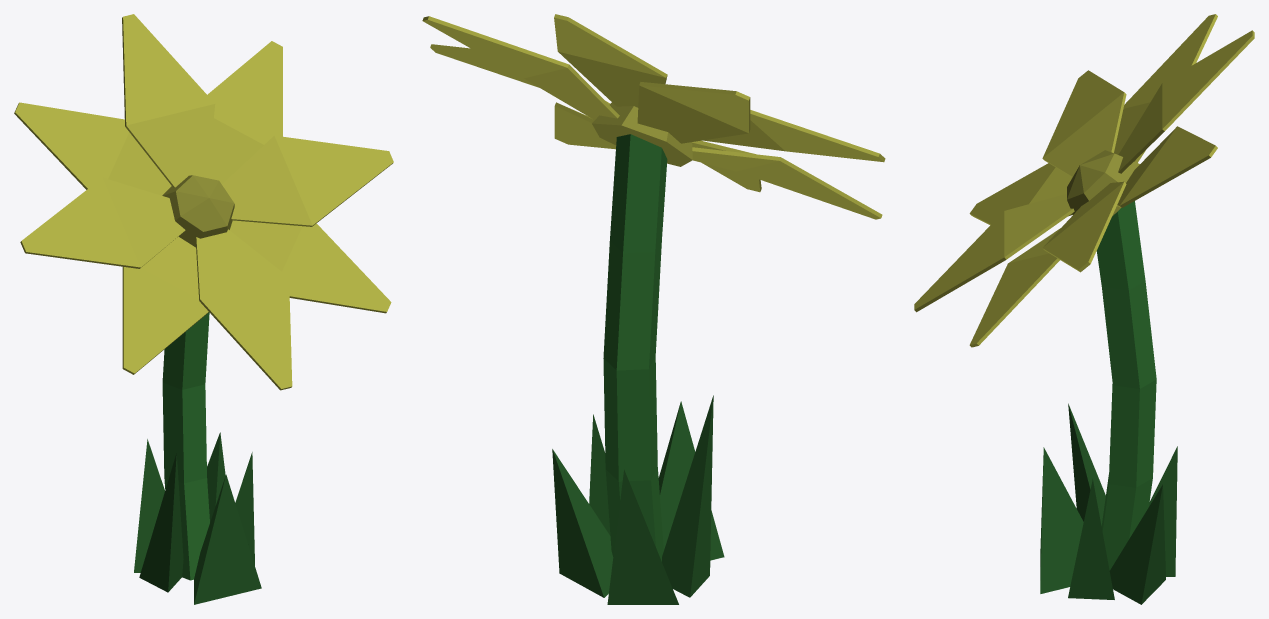
File: Flower_1_Yellow.fbx
The picture shows the model from 3 angles, left to right: view 1: azimuth 30°, elevation 25°; view 2: azimuth 150°, elevation 25°; view 3: azimuth 270°, elevation 25°; orthographic projection. The views are drawn at different scales.
Visible parts, largest first — view 1: Flower_1_Yellow; view 2: Flower_1_Yellow; view 3: Flower_1_Yellow.
Part boxes in pixels (x1,y1,x2,y2): Flower_1_Yellow: [14, 14, 393, 604]; Flower_1_Yellow: [422, 14, 885, 604]; Flower_1_Yellow: [914, 14, 1254, 604].
Bounding box in the file's own units: 18.76 × 24.83 × 14.08.
